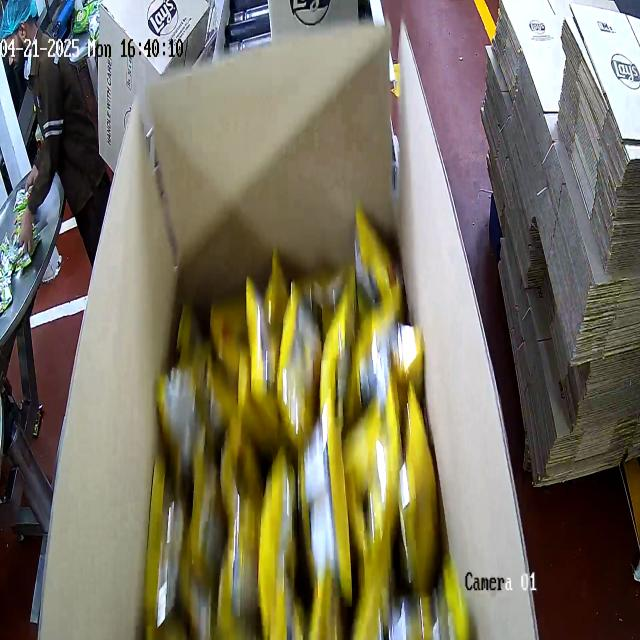SALTED: (168, 244, 444, 640)
